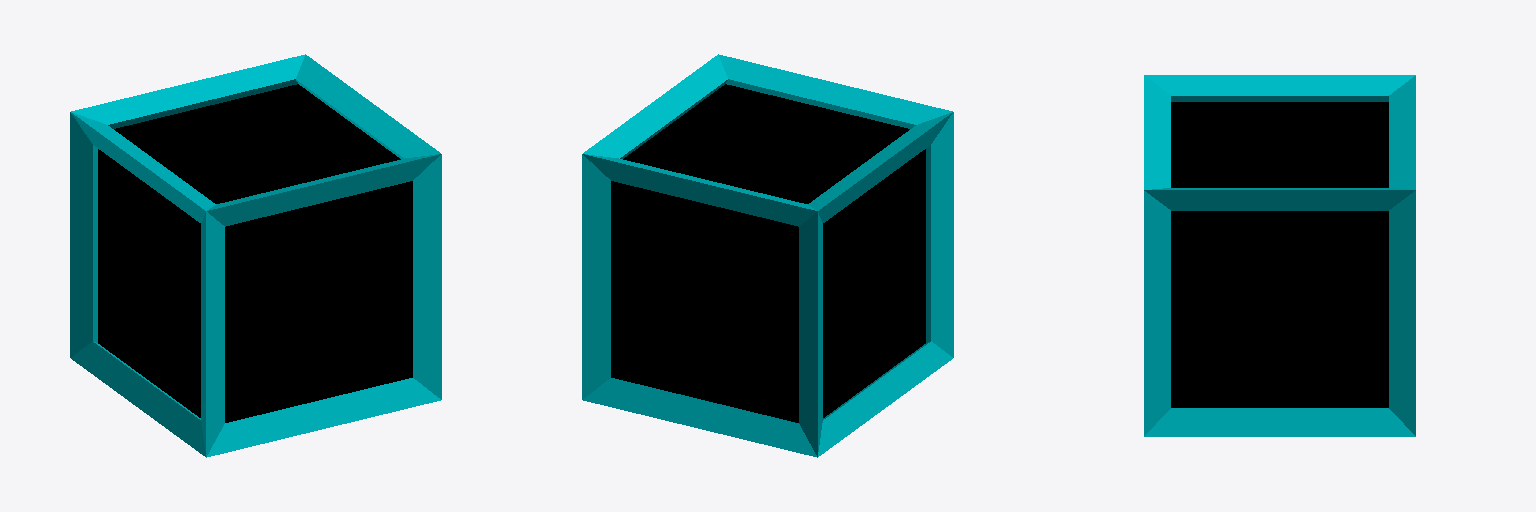
The model's file is Ball.obj.
The picture shows the model from 3 angles: view 1: azimuth 30°, elevation 25°; view 2: azimuth 150°, elevation 25°; view 3: azimuth 270°, elevation 25°; orthographic projection.
Parts seen in each view (by area): view 1: Cube; view 2: Cube; view 3: Cube.
Boxes of the visible parts, x1=… form: Cube: x1=70, y1=54, x2=441, y2=457; Cube: x1=582, y1=54, x2=953, y2=457; Cube: x1=1144, y1=75, x2=1415, y2=436.
Size of the model in its own units: 0.4693 by 0.4693 by 0.4693.